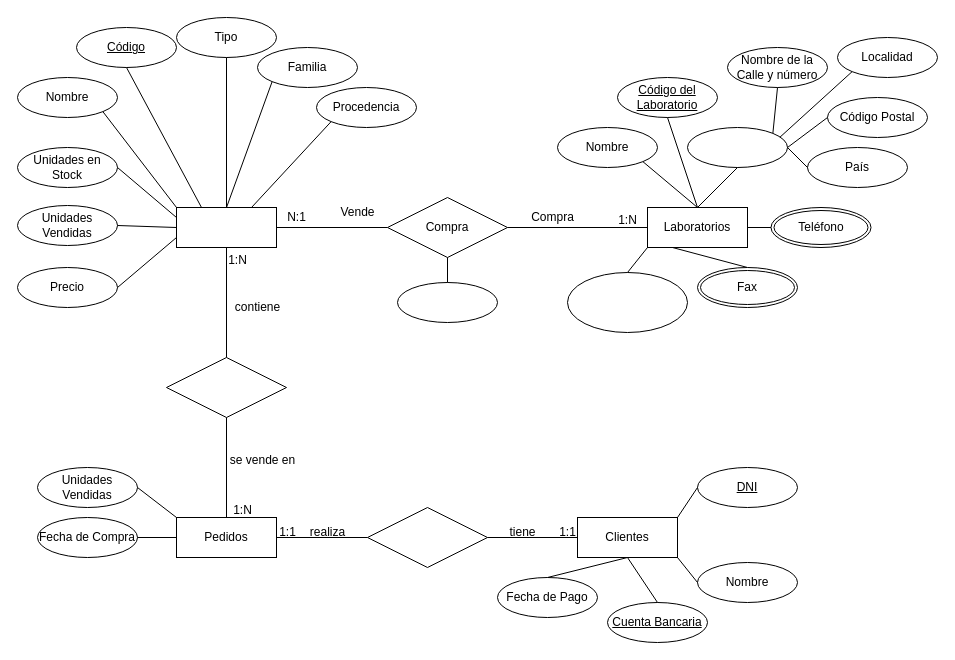
Image size: 955x660. Some labels were removed from this diagram. The centre of each missing label's shape, as x and y in pixels:
"Cantidad" goes at point 447,302.
"Con Crédito" goes at point 427,537.
"Dirección Postal" goes at point 737,147.
"Medicamentos" goes at point 226,227.
"Nombre Persona de Contacto" goes at point 627,302.
"Se Vende" goes at point 226,387.
